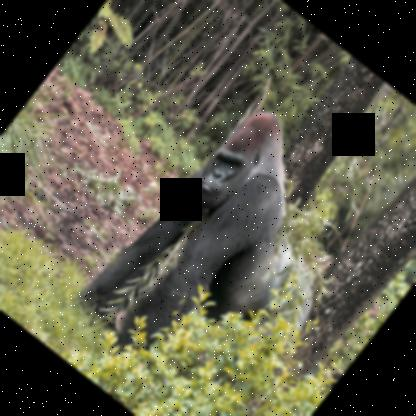Gorilla gorilla: (61, 83, 398, 415)
